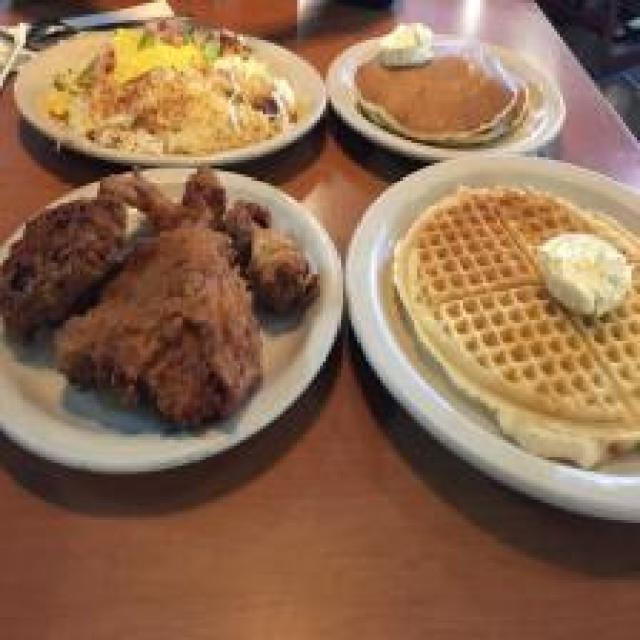Chicken Wings: (113, 166, 321, 314)
Omelette: (58, 24, 302, 150)
Pancakes: (352, 42, 532, 144)
Waffles: (394, 180, 640, 469)
